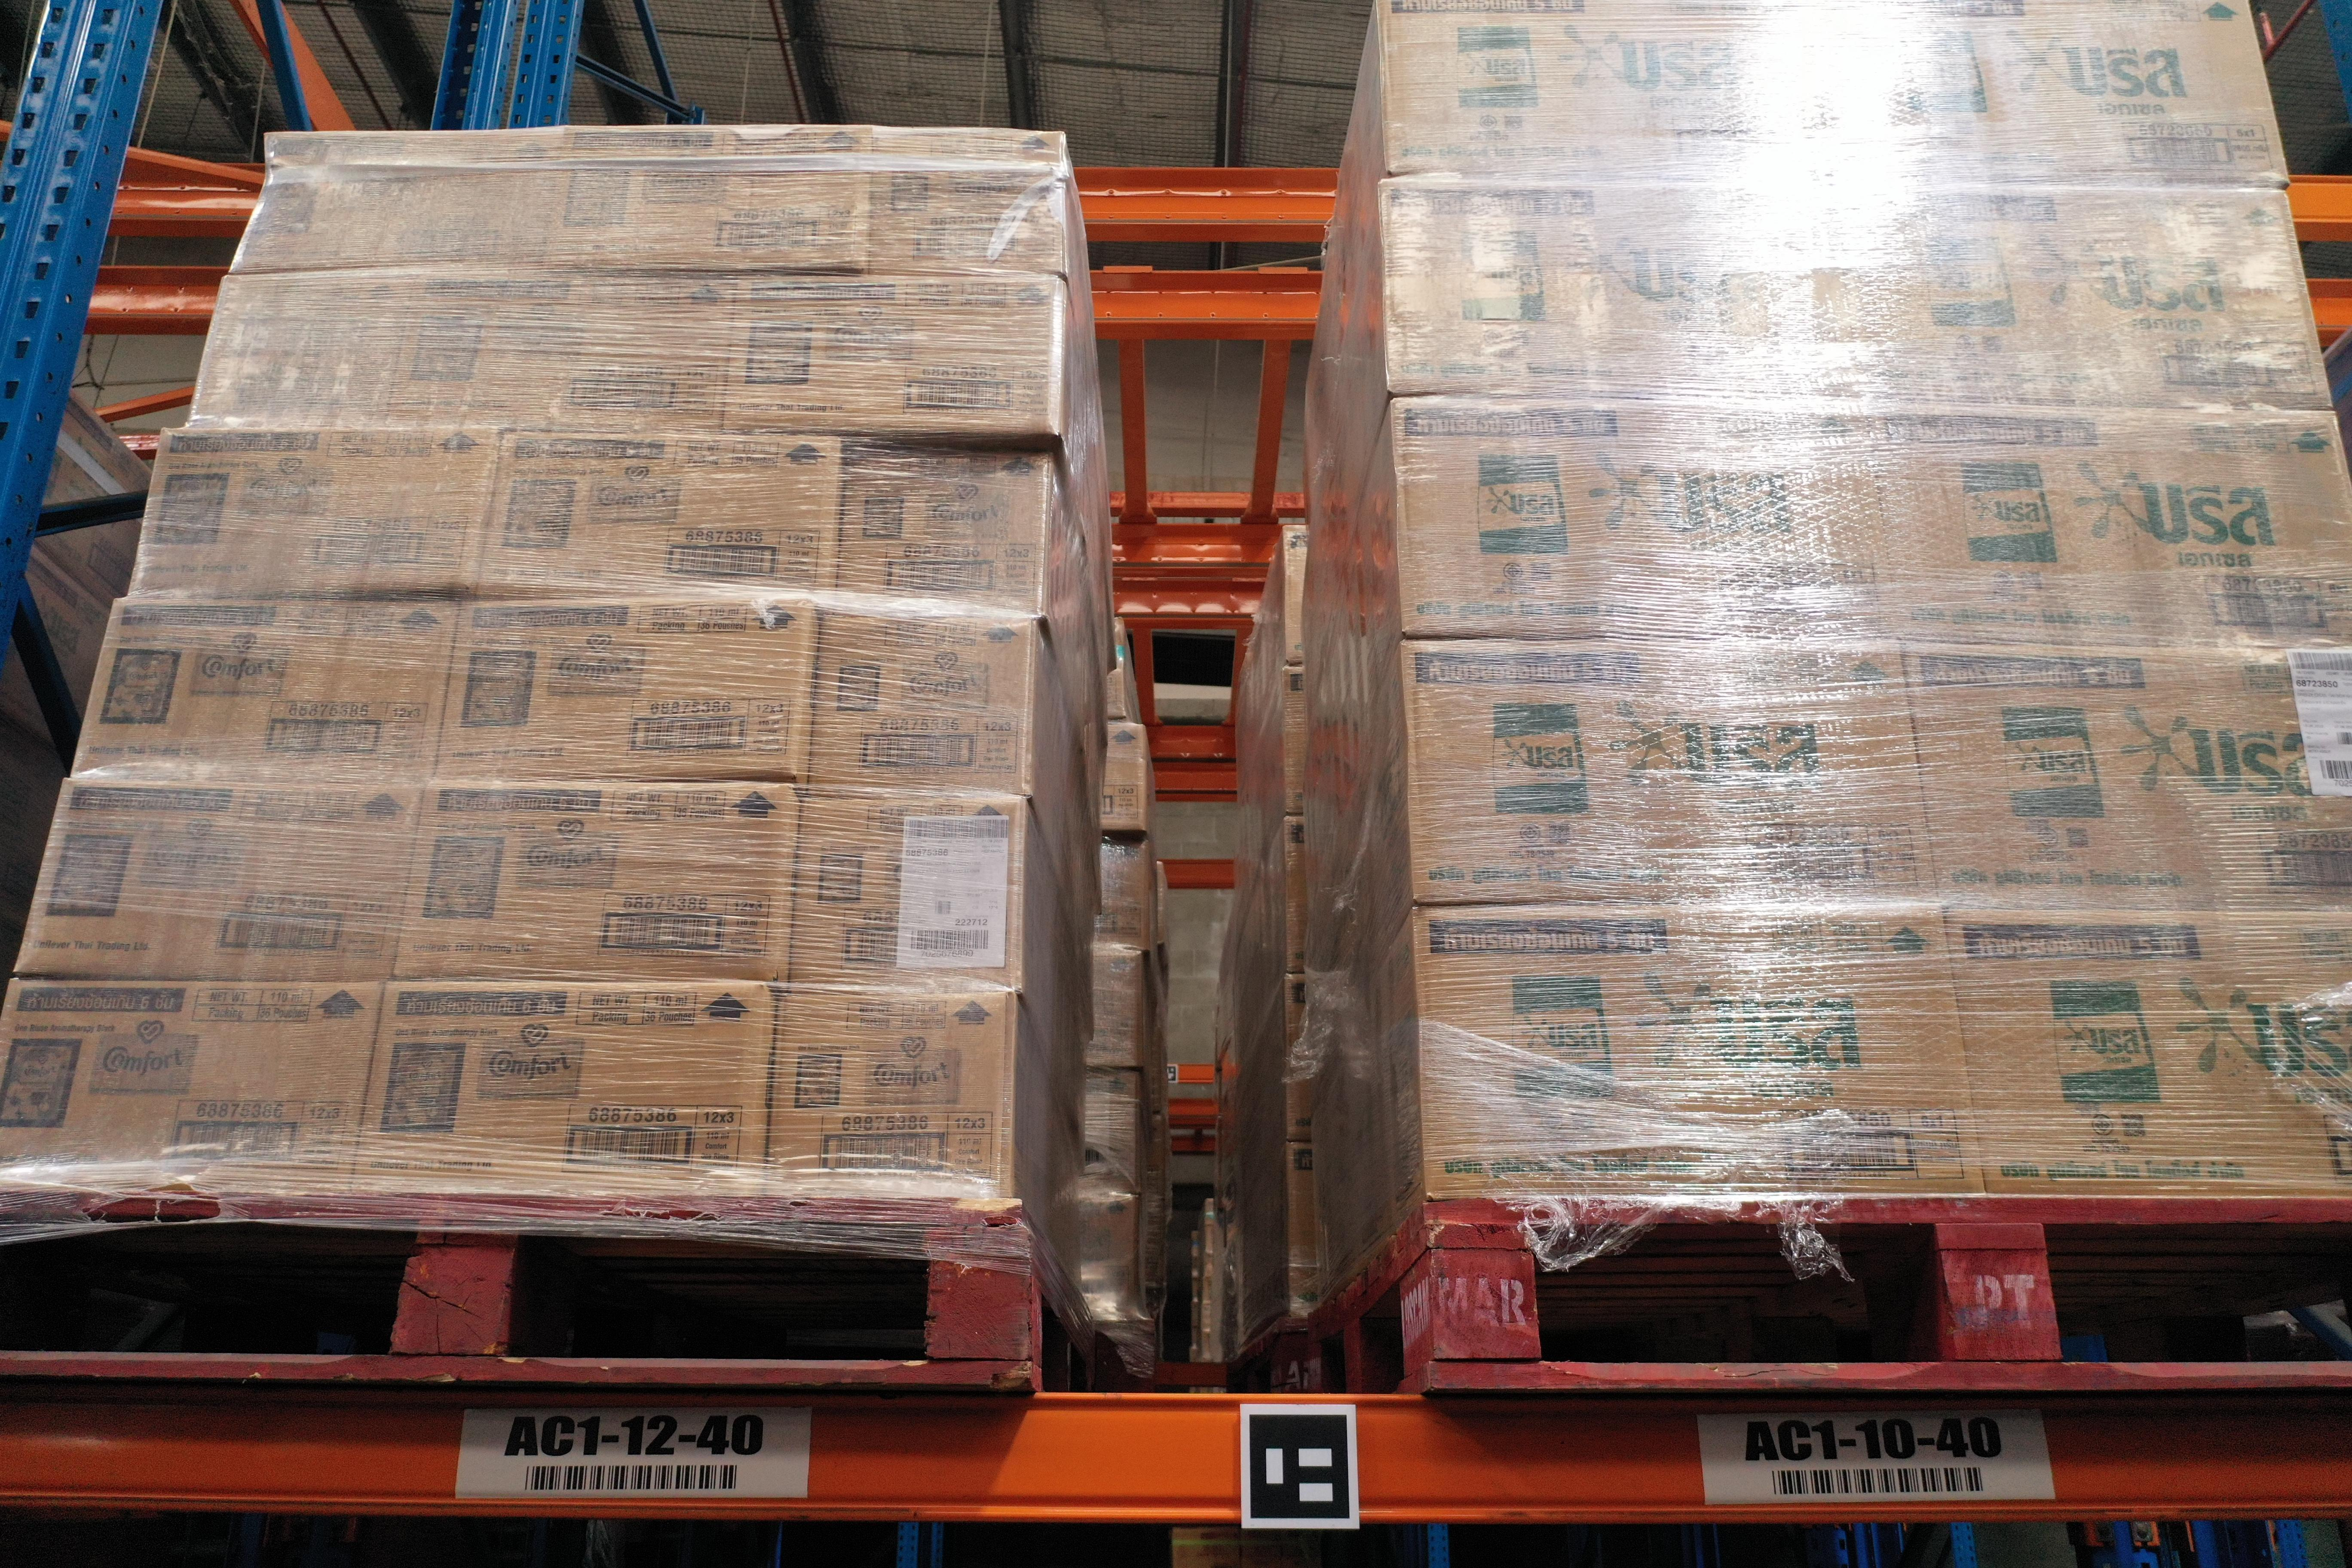-: (1414, 906, 1988, 1197), (1402, 640, 1942, 913), (1393, 397, 1906, 651), (1902, 644, 2352, 917), (1871, 406, 2352, 653), (1377, 173, 1876, 411), (1948, 910, 2352, 1200), (1853, 173, 2338, 413), (355, 978, 770, 1192), (10, 775, 423, 983), (385, 779, 798, 983), (0, 973, 385, 1185), (66, 590, 465, 786), (429, 597, 817, 787), (471, 425, 845, 605), (131, 425, 504, 597), (366, 271, 735, 434), (719, 271, 1060, 439), (770, 976, 1011, 1200), (219, 128, 558, 276), (537, 124, 875, 273), (789, 787, 1024, 992), (798, 611, 1031, 796), (828, 443, 1055, 623), (187, 276, 397, 439), (866, 124, 1066, 278)
